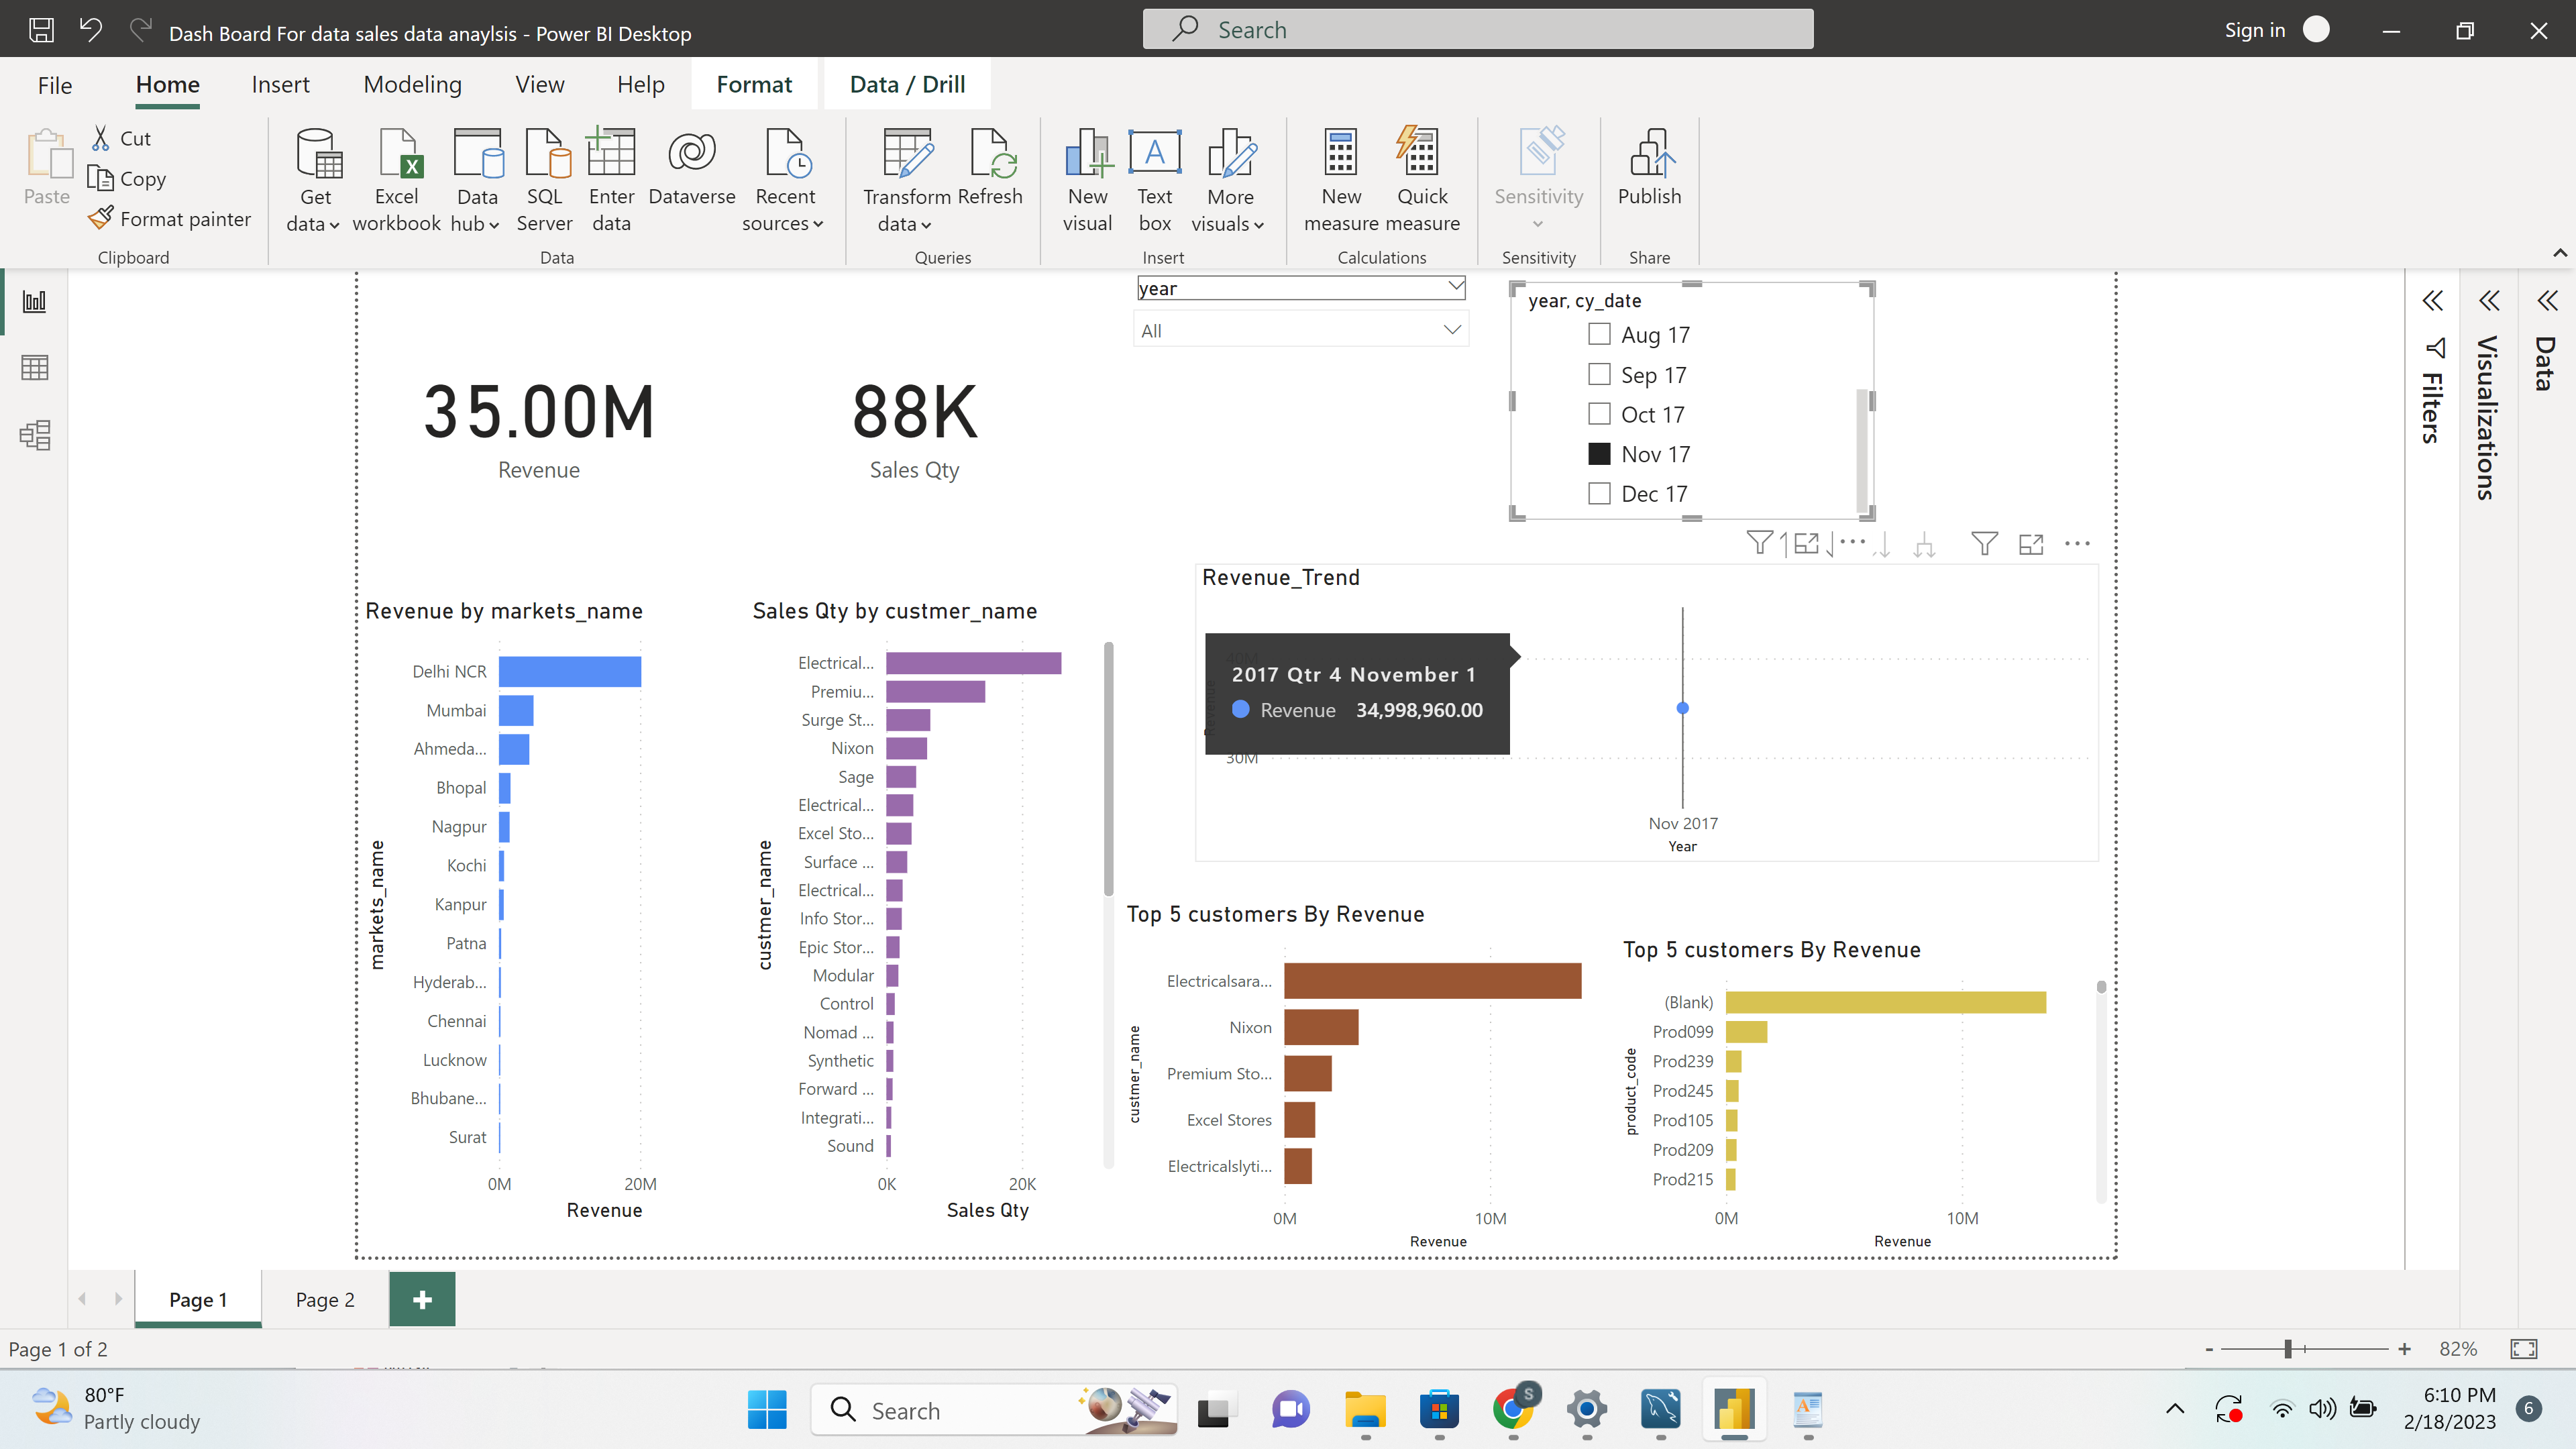

Layout of this report page (visuals, bound fields, positions):
{"tool":"powerbi","page":{"name":"Page 1","canvas":[1280,720],"ordinal":0},"visuals":[{"type":"card","fields":{"Values":["BaseMeasures.Revenue"]},"box":[0,0,263.5,215.4],"z":0},{"type":"card","fields":{"Values":["BaseMeasures.Sales Qty"]},"box":[273.5,0,263.5,215.4],"z":1000},{"type":"barChart","fields":{"Y":["BaseMeasures.Revenue"],"Category":["sales markets.markets_name","sales customers (2).custmer_name"]},"box":[0,239.8,273.7,459.3],"z":2000},{"type":"barChart","fields":{"Y":["BaseMeasures.Sales Qty"],"Category":["sales customers (2).custmer_name"]},"box":[281.8,239.8,273.7,459.3],"z":3000},{"type":"slicer","fields":{"Values":["sales date.year"]},"box":[546,0,265.5,173.4],"z":4000},{"type":"textbox","box":[828.5,0,265,270],"z":5000},{"type":"slicer","fields":{"Values":["sales date.year","sales date.cy_date"]},"box":[840,9.5,265.5,173.4],"z":6000},{"type":"slicer","fields":{"Values":["sales date.year"]},"box":[555,0,265.3,173.6],"z":7000},{"type":"barChart","title":"Top 5 customers By Revenue","fields":{"Y":["BaseMeasures.Revenue"],"Category":["sales customers (2).custmer_name"]},"box":[555,460.8,361.8,259.2],"z":8000},{"type":"barChart","title":"Top 5 customers By Revenue","fields":{"Y":["BaseMeasures.Revenue"],"Category":["sales products.product_code"]},"box":[916.8,486.5,363.1,233.5],"z":9000},{"type":"lineChart","title":"Revenue_Trend","fields":{"Category":["sales date.cy_date.Variation.Date Hierarchy.Year","sales date.cy_date.Variation.Date Hierarchy.Quarter","sales date.cy_date.Variation.Date Hierarchy.Month","sales date.cy_date.Variation.Date Hierarchy.Day"],"Y":["BaseMeasures.Revenue"]},"box":[609.7,215.4,659.8,216.8],"z":10000}]}

Visuals, with their boxes on the page's 1280x720 design canvas (x1, y1, x2, y2). These are canvas units, not pixel positions in the 2576x1449 screenshot, which may show the page scaled, cropped or inside an application window:
card - BaseMeasures.Revenue: 0 0 264 215
card - BaseMeasures.Sales Qty: 274 0 537 215
barChart - BaseMeasures.Revenue x sales markets.markets_name: 0 240 274 699
barChart - BaseMeasures.Sales Qty x sales customers (2).custmer_name: 282 240 556 699
slicer - sales date.year: 546 0 812 173
textbox: 828 0 1094 270
slicer - sales date.year x sales date.cy_date: 840 10 1106 183
slicer - sales date.year: 555 0 820 174
"Top 5 customers By Revenue" barChart: 555 461 917 720
"Top 5 customers By Revenue" barChart: 917 486 1280 720
"Revenue_Trend" lineChart: 610 215 1270 432
